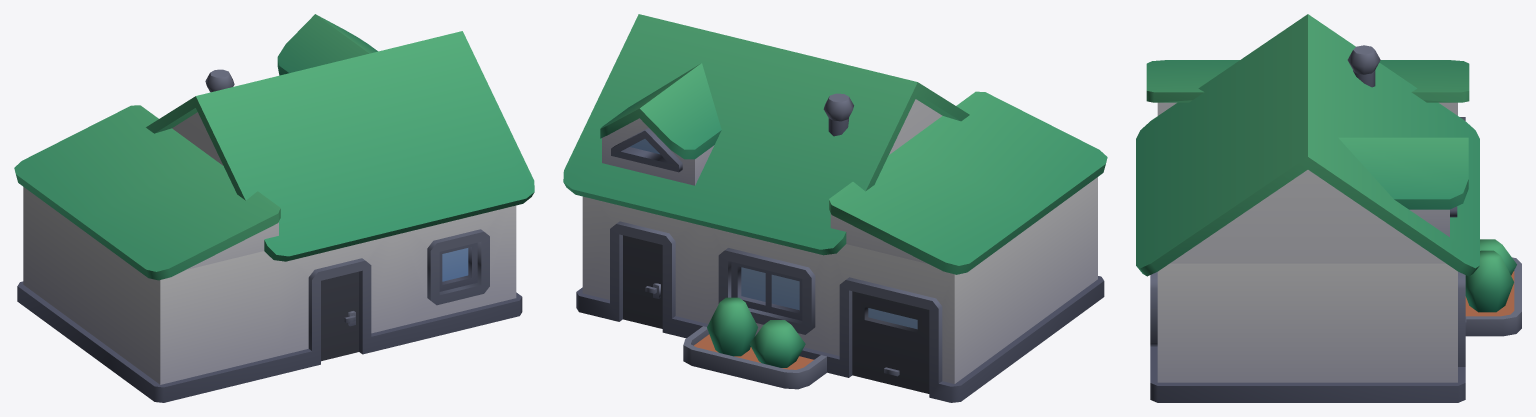
File: building-type-i.glb
3 views of the same model, side by side, from view 1: azimuth 30°, elevation 25°; view 2: azimuth 150°, elevation 25°; view 3: azimuth 270°, elevation 25° (orthographic). The views are drawn at different scales.
Visible parts, largest first — view 1: building-type-i; view 2: building-type-i; view 3: building-type-i.
Part boxes in pixels (x1,y1,x2,y2): building-type-i: [14, 14, 534, 402]; building-type-i: [563, 14, 1107, 402]; building-type-i: [1136, 14, 1521, 402].
Size of the model in its own units: 1.29 by 0.7375 by 1.03.
